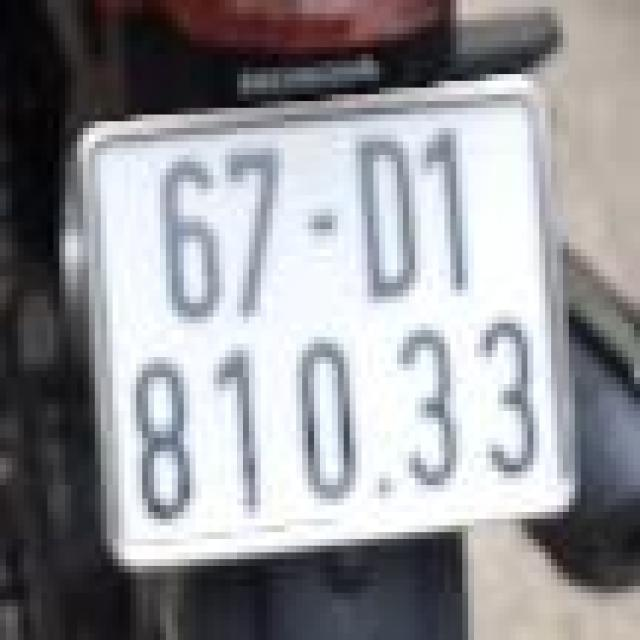0: (288, 323, 364, 512)
1: (210, 340, 276, 522), (415, 125, 480, 306)
3: (462, 303, 551, 492), (391, 324, 462, 506)
6: (145, 155, 228, 330)
7: (210, 131, 294, 327)
8: (125, 350, 208, 526)
D: (341, 115, 424, 303)
